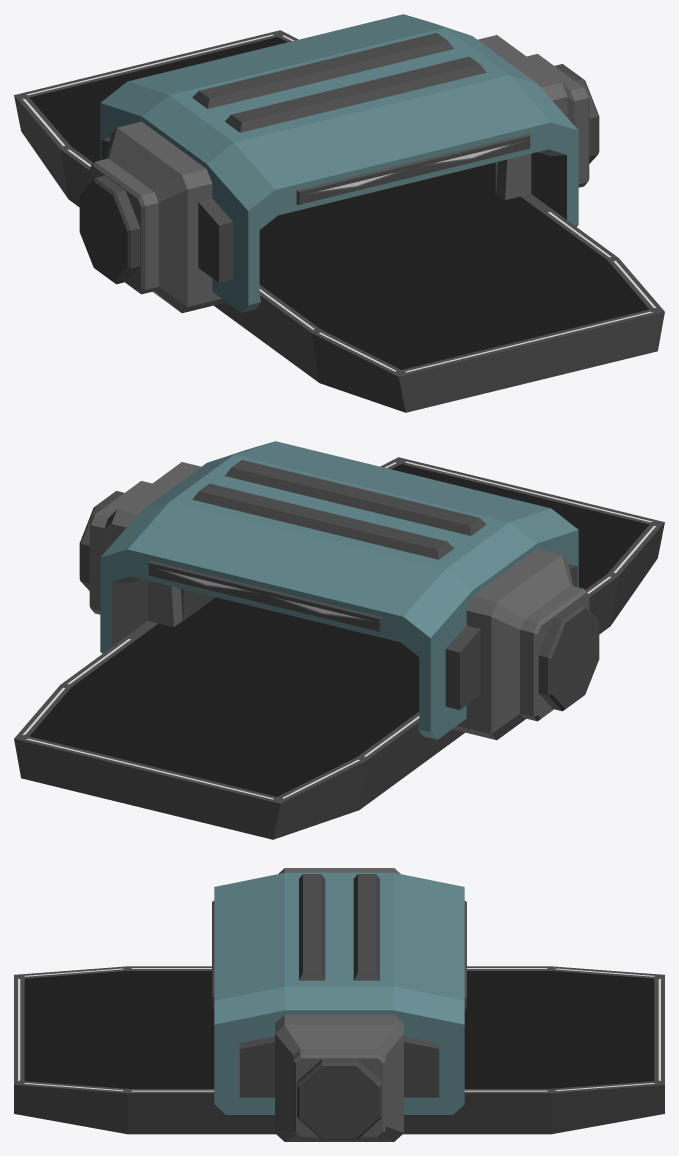
The model's file is SS_DockingBay.fbx.
3 renders of one model, top to bottom at view 1: azimuth 30°, elevation 25°; view 2: azimuth 150°, elevation 25°; view 3: azimuth 270°, elevation 25°, orthographic. The views are drawn at different scales.
Parts seen in each view (by area): view 1: Cube.004; view 2: Cube.004; view 3: Cube.004.
Boxes of the visible parts, x1,y1,x2,y2 form: Cube.004: [14, 14, 664, 412]; Cube.004: [14, 441, 664, 839]; Cube.004: [14, 868, 664, 1141].
Bounding box in the file's own units: 1000 × 413 × 1412.
